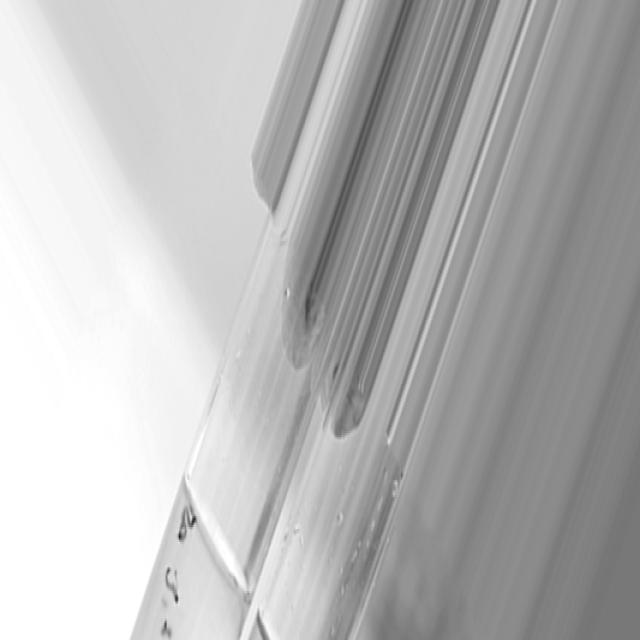larvas: (166, 568, 178, 602), (180, 509, 196, 527), (160, 618, 173, 640), (178, 524, 186, 539)
